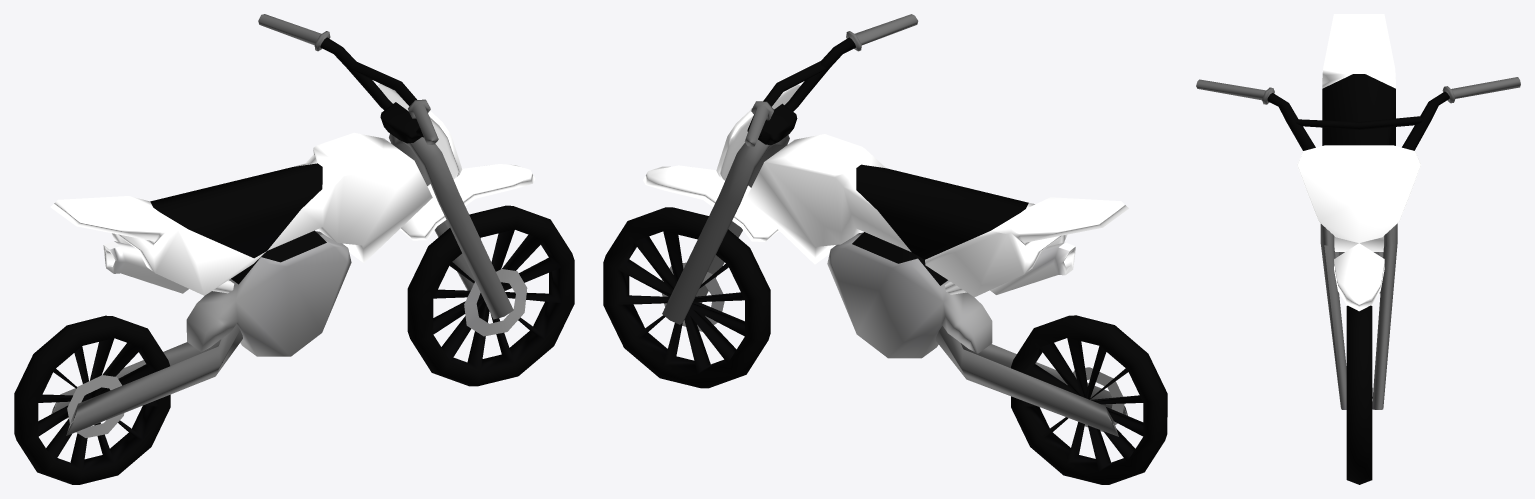
File: DirtBike125ccWhite.glb
3 renders of one model, left to right at view 1: azimuth 30°, elevation 25°; view 2: azimuth 150°, elevation 25°; view 3: azimuth 270°, elevation 25°, orthographic. The views are drawn at different scales.
Parts seen in each view (by area): view 1: DirtBike125ccWhite; view 2: DirtBike125ccWhite; view 3: DirtBike125ccWhite.
Boxes of the visible parts, <box> form: DirtBike125ccWhite: <box>14,14,574,484</box>; DirtBike125ccWhite: <box>603,14,1167,484</box>; DirtBike125ccWhite: <box>1196,14,1520,484</box>.
Bounding box in the file's own units: 1.92 × 1.13 × 1.01.
1 material, 1 textured.
